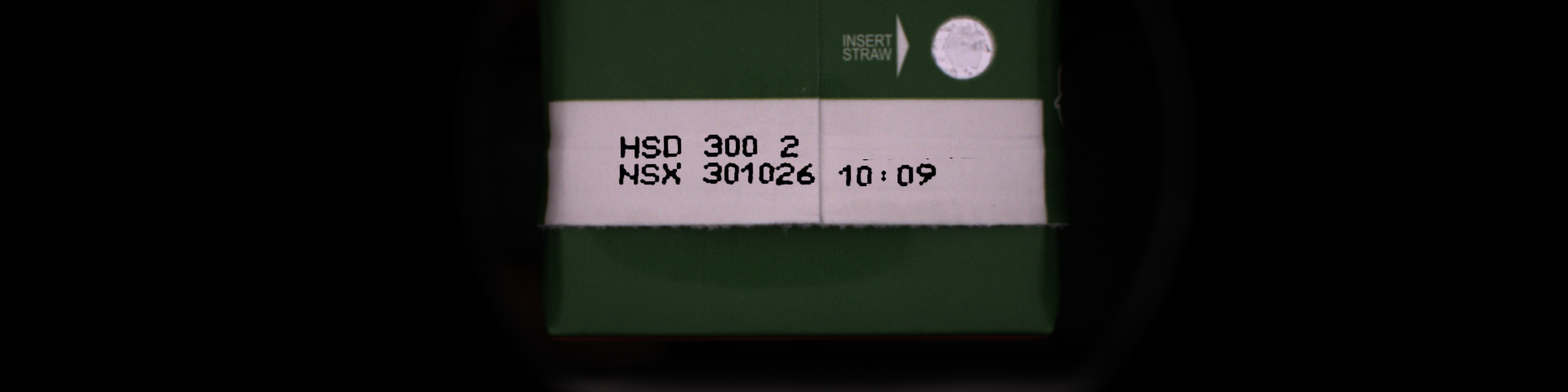date: (958, 133, 984, 162), (934, 132, 959, 161), (661, 159, 685, 188), (799, 133, 824, 160), (615, 160, 640, 187), (914, 161, 938, 189), (640, 132, 663, 161), (618, 133, 641, 161), (778, 132, 801, 160), (837, 134, 860, 162), (701, 160, 724, 188), (796, 159, 818, 188), (860, 135, 882, 163), (774, 159, 796, 187), (702, 132, 723, 159), (639, 160, 660, 187), (723, 132, 742, 161), (915, 133, 934, 162), (881, 135, 902, 161), (662, 132, 682, 159), (759, 134, 779, 161), (756, 159, 775, 187), (895, 162, 914, 190), (855, 162, 874, 189), (723, 159, 741, 187), (741, 133, 758, 160), (837, 163, 854, 190), (741, 160, 756, 187), (876, 164, 891, 187)
